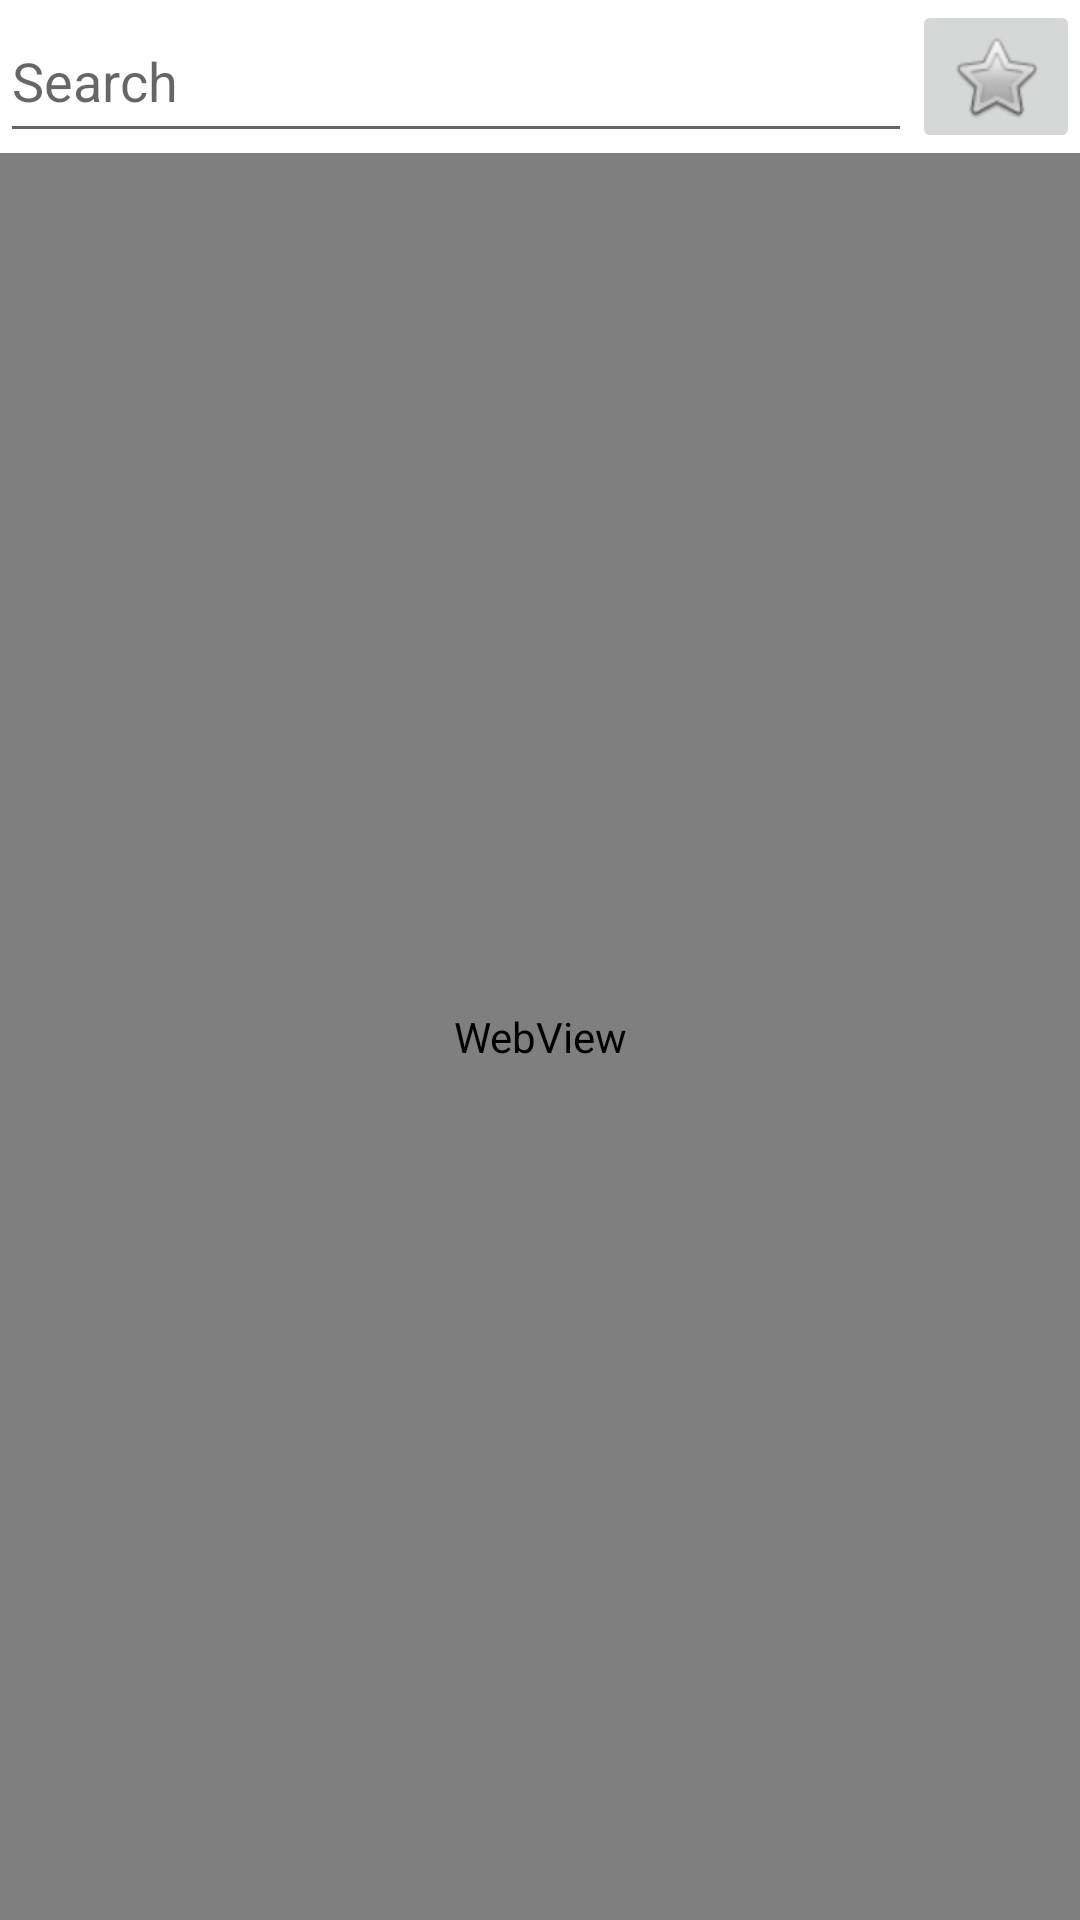

Named icons in this screenshot (1080*1920) and their centers, point (x, y):
star on: point (996, 76)
